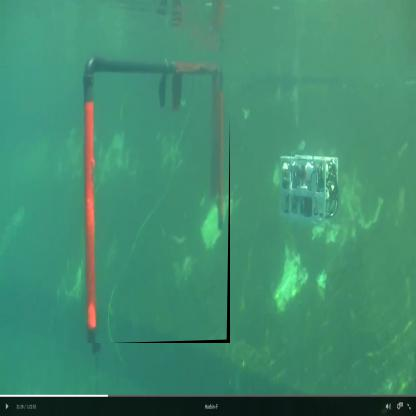gate: (82, 53, 232, 345)
